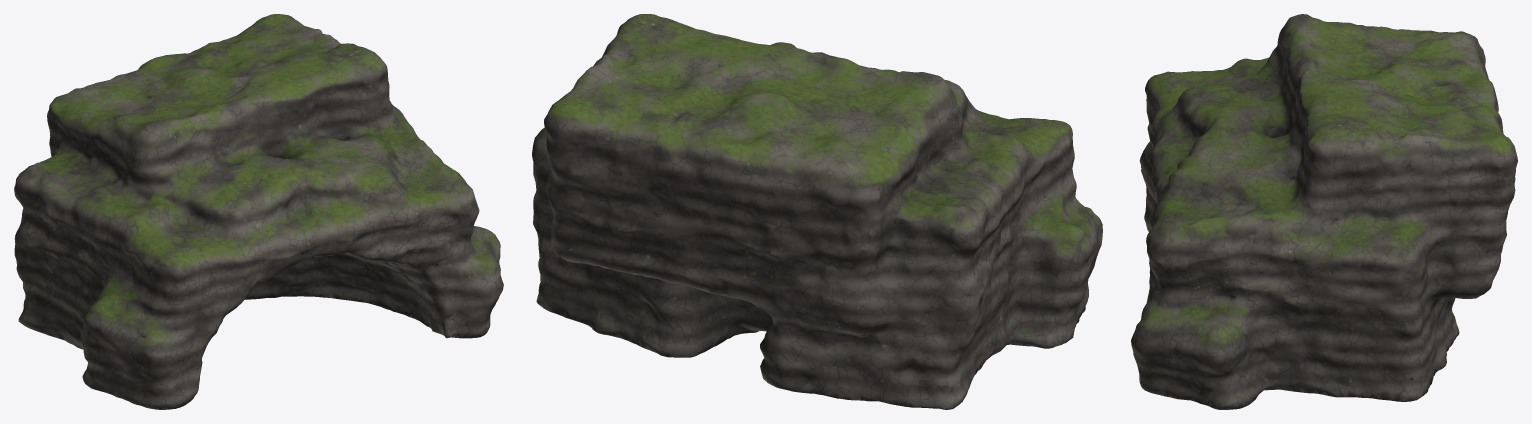
Rendered from den.glb.
3 views of the same model, side by side, from view 1: azimuth 30°, elevation 25°; view 2: azimuth 150°, elevation 25°; view 3: azimuth 270°, elevation 25° (orthographic). The views are drawn at different scales.
Parts seen in each view (by area): view 1: den; view 2: den; view 3: den.
Boxes of the visible parts, x1,y1,x2,y2 form: den: [14, 14, 503, 409]; den: [532, 14, 1102, 409]; den: [1131, 14, 1517, 409].
Size of the model in its own units: 24.13 by 12.75 by 18.31.
1 material, 1 textured.
